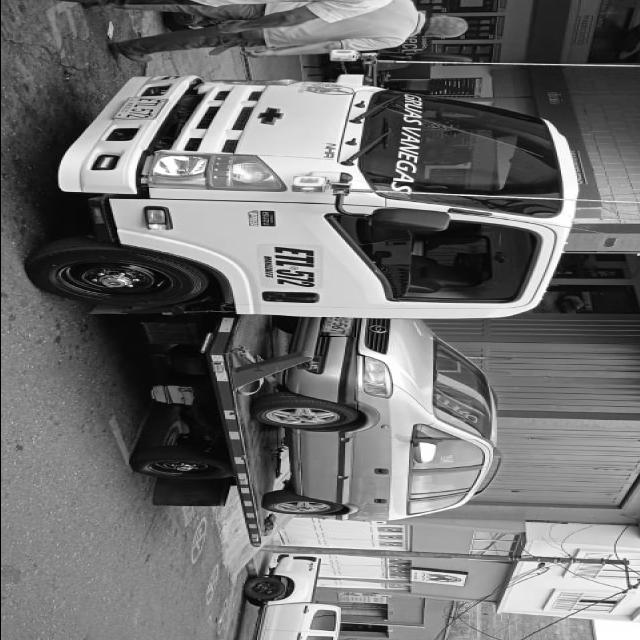plate: (319, 317, 355, 337)
